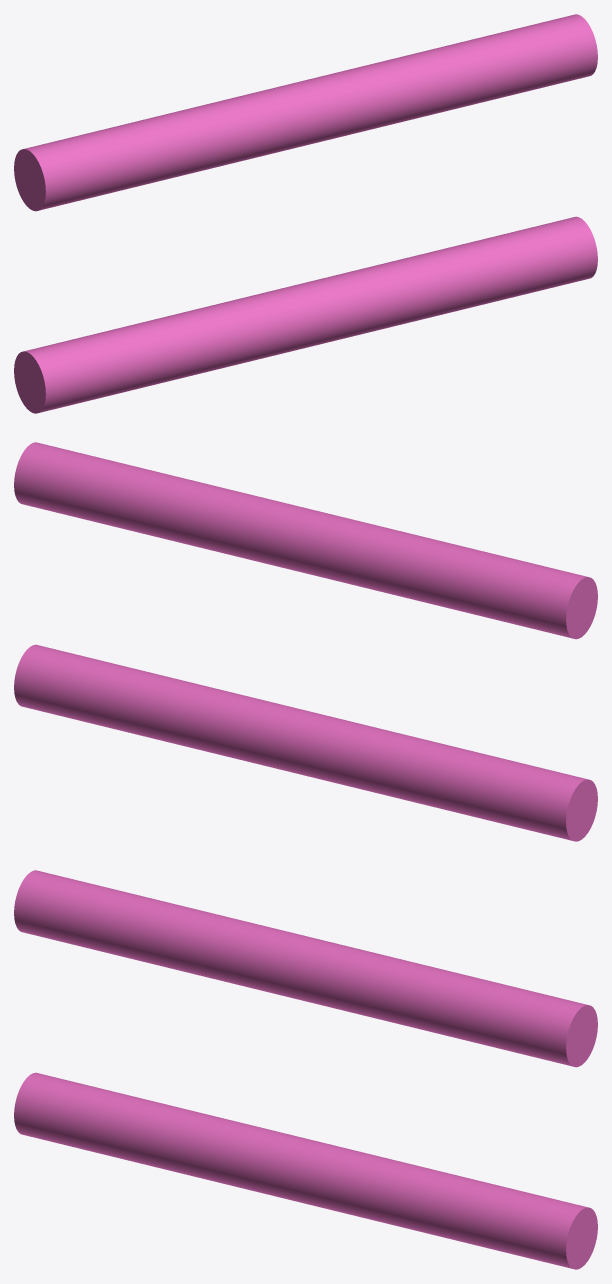
File: Architrav_Rundstab_low.fbx
3 views of the same model, one above another, from view 1: azimuth 30°, elevation 25°; view 2: azimuth 150°, elevation 25°; view 3: azimuth 330°, elevation 25° (orthographic).
Visible parts, largest first — view 1: Architrav_Rundstab_low; view 2: Architrav_Rundstab_low; view 3: Architrav_Rundstab_low.
Boxes of the visible parts, x1=… form: Architrav_Rundstab_low: x1=14, y1=14, x2=597, y2=413; Architrav_Rundstab_low: x1=14, y1=442, x2=597, y2=841; Architrav_Rundstab_low: x1=14, y1=870, x2=597, y2=1269.
Size of the model in its own units: 2 by 0.9 by 0.2.
